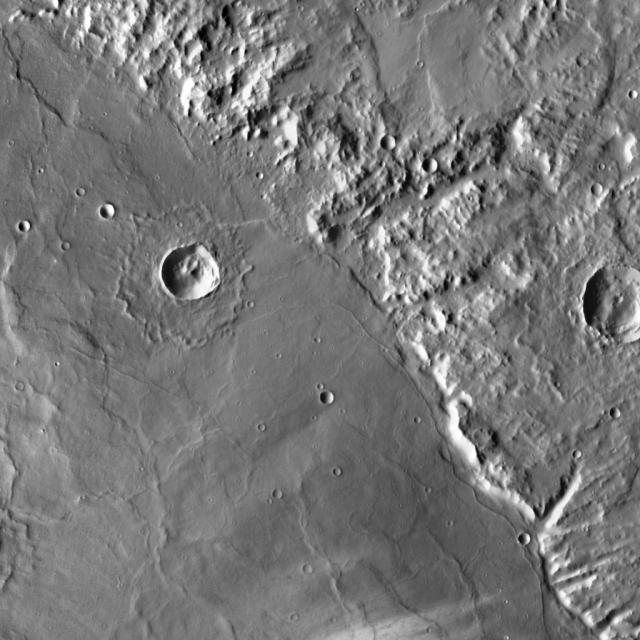crater: (585, 266, 640, 341), (166, 244, 222, 298), (422, 158, 438, 174), (380, 135, 396, 150), (99, 204, 114, 219), (518, 532, 531, 546), (322, 392, 334, 405), (18, 220, 31, 232), (590, 183, 602, 195), (610, 407, 622, 419), (629, 88, 638, 100), (578, 54, 588, 64), (274, 489, 283, 499), (255, 170, 264, 180), (77, 187, 86, 196), (61, 241, 70, 250), (303, 565, 312, 574), (574, 449, 583, 458), (330, 616, 338, 624), (333, 467, 340, 475), (414, 416, 421, 424), (258, 424, 266, 431), (18, 382, 26, 389), (598, 163, 605, 170), (247, 300, 254, 307), (296, 239, 302, 245), (318, 382, 324, 388)
